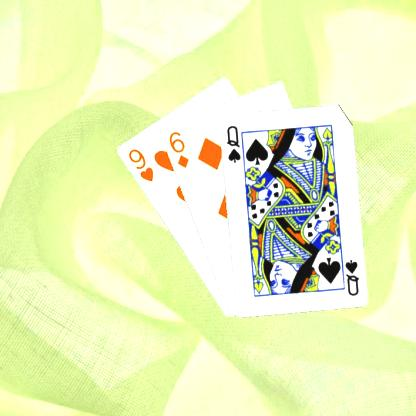6D: (166, 129, 190, 169)
9H: (125, 146, 155, 183)
QS: (223, 123, 242, 164), (342, 256, 360, 297)
